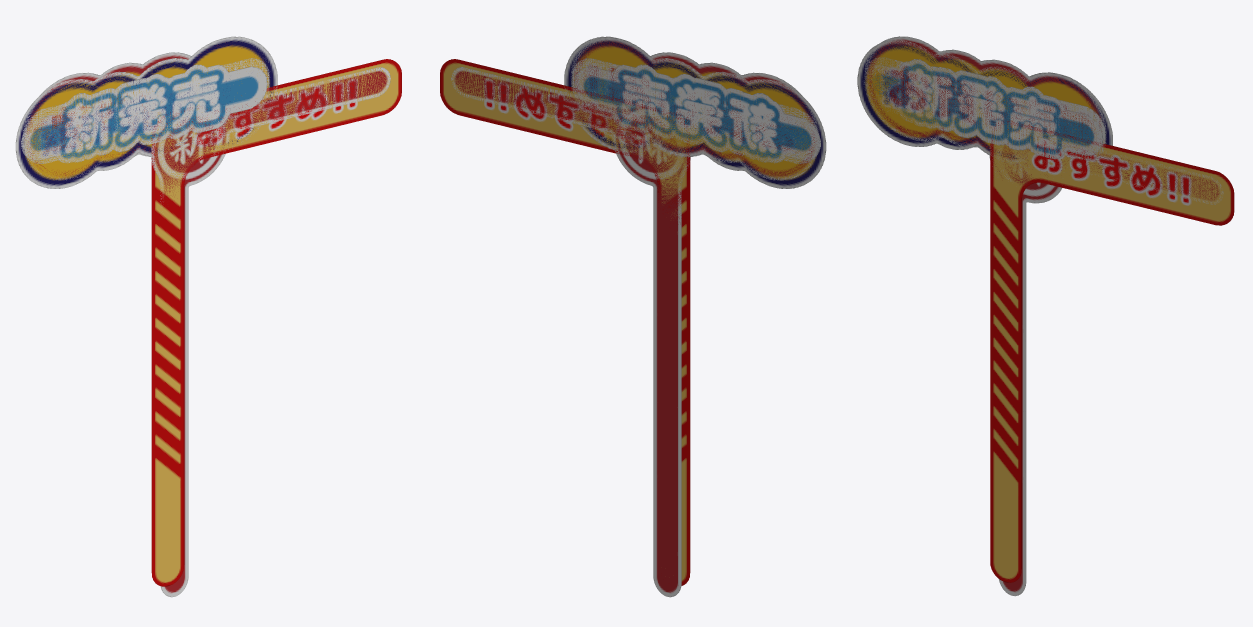
File: Decal.fbx
3 renders of one model, left to right at view 1: azimuth 30°, elevation 25°; view 2: azimuth 150°, elevation 25°; view 3: azimuth 330°, elevation 25°, orthographic. The views are drawn at different scales.
Visible parts, largest first — view 1: Reccomend_Frame, New, ForCool, New_Frame, LowPrice, GoodTaste; view 2: New_Frame, Reccomend_Frame, New, LowPrice, ForCool, GoodTaste; view 3: Reccomend_Frame, New, LowPrice, ForCool, New_Frame, GoodTaste.
Part boxes in pixels (x1,y1,x2,y2): Reccomend_Frame: [151, 59, 401, 586]; New: [21, 64, 267, 163]; ForCool: [15, 36, 277, 188]; New_Frame: [151, 67, 390, 597]; LowPrice: [23, 38, 268, 180]; GoodTaste: [23, 58, 269, 163]; New_Frame: [451, 67, 690, 597]; Reccomend_Frame: [440, 59, 690, 585]; New: [574, 64, 820, 163]; LowPrice: [570, 37, 819, 180]; ForCool: [564, 36, 826, 188]; GoodTaste: [572, 58, 818, 163]; Reccomend_Frame: [990, 121, 1234, 582]; New: [863, 59, 1103, 159]; LowPrice: [864, 36, 1106, 167]; ForCool: [857, 40, 1112, 180]; New_Frame: [989, 121, 1223, 596]; GoodTaste: [867, 57, 1105, 160].
Bounding box in the file's own units: 0.1162 × 0.1606 × 4.19e-08.
